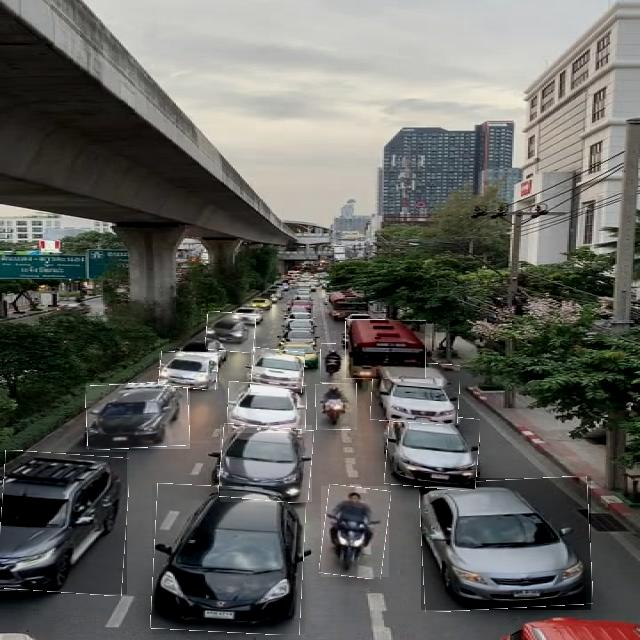Bus: (346, 320, 426, 379)
Car: (152, 485, 305, 634), (421, 478, 591, 610), (0, 452, 127, 594), (220, 425, 312, 502), (386, 414, 479, 490), (86, 383, 190, 449), (371, 362, 460, 424), (228, 382, 306, 433), (251, 349, 304, 392), (159, 353, 218, 389), (206, 312, 256, 352)
Motorcycle: (321, 486, 389, 577), (316, 384, 357, 430), (321, 344, 351, 383)
